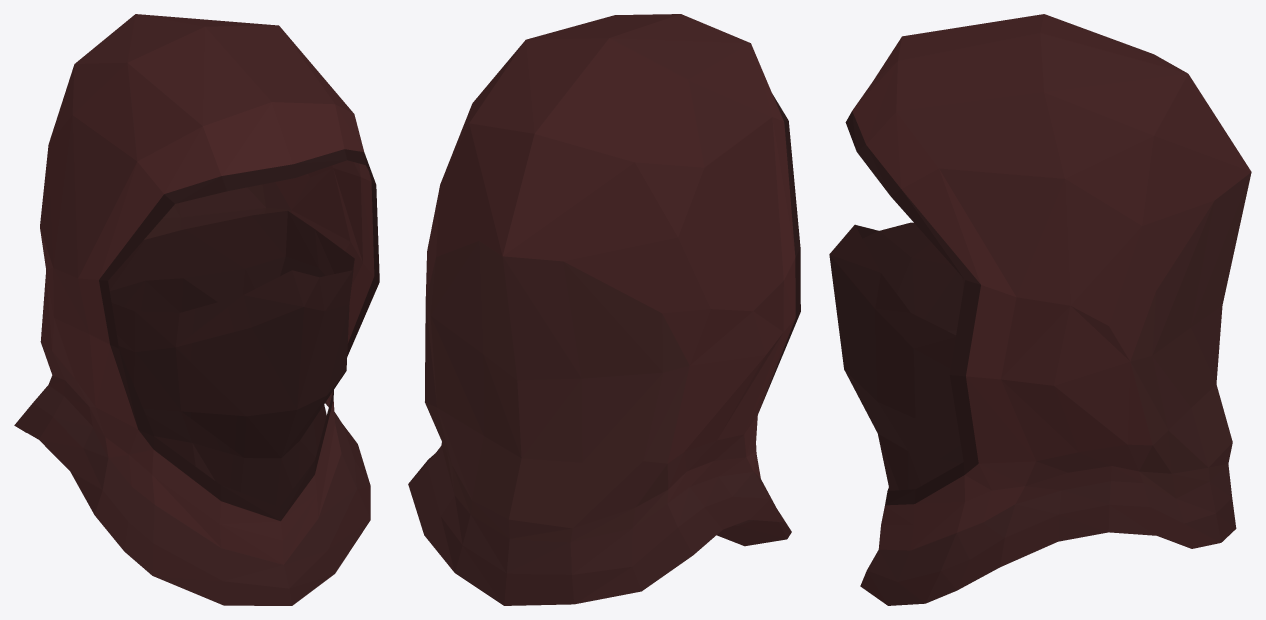
File: hoodFemale.glb
The picture shows the model from 3 angles, left to right: view 1: azimuth 30°, elevation 25°; view 2: azimuth 150°, elevation 25°; view 3: azimuth 270°, elevation 25°; orthographic projection. The views are drawn at different scales.
Parts seen in each view (by area): view 1: hood; view 2: hood; view 3: hood.
Part boxes in pixels (x1,y1,x2,y2): hood: [14, 14, 379, 605]; hood: [408, 14, 800, 605]; hood: [829, 14, 1251, 605].
Size of the model in its own units: 0.2904 by 0.4783 by 0.3316.
